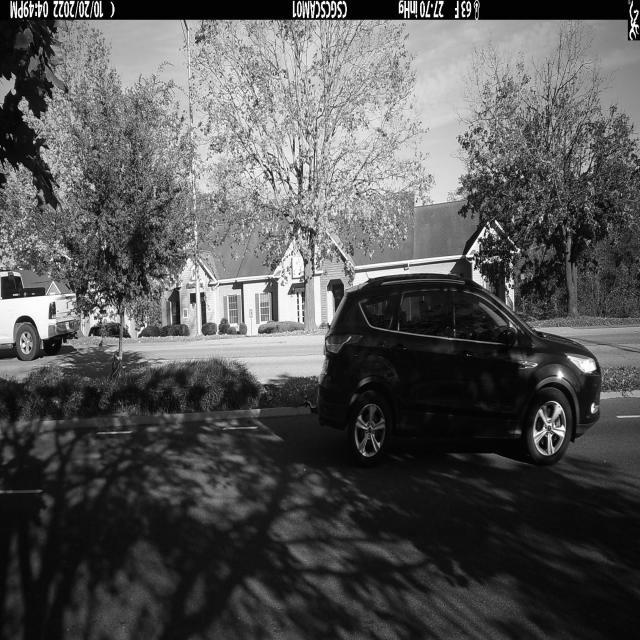SUV: (318, 273, 602, 467)
